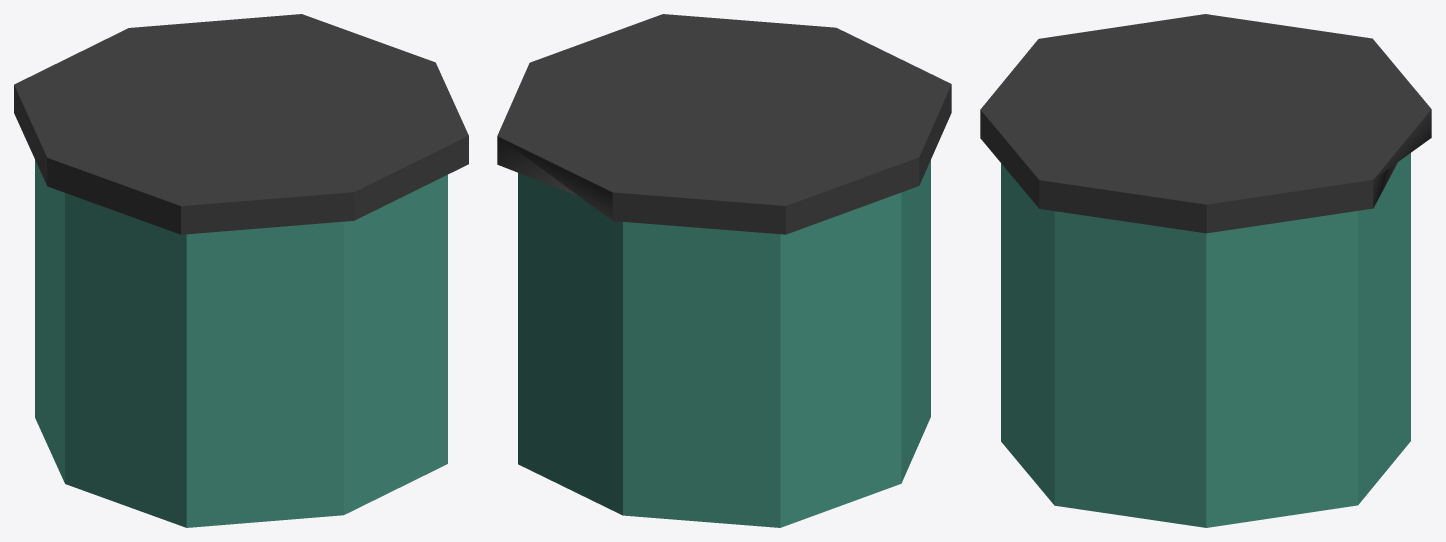
Rendered from Jar_7.fbx.
3 renders of one model, left to right at view 1: azimuth 30°, elevation 25°; view 2: azimuth 150°, elevation 25°; view 3: azimuth 270°, elevation 25°, orthographic.
Visible parts, largest first — view 1: Jar_7; view 2: Jar_7; view 3: Jar_7.
Part boxes in pixels (x1,y1,x2,y2): Jar_7: (14, 14, 468, 527); Jar_7: (497, 14, 951, 527); Jar_7: (980, 14, 1431, 527).
Bounding box in the file's own units: 20.65 × 20.65 × 16.78.
